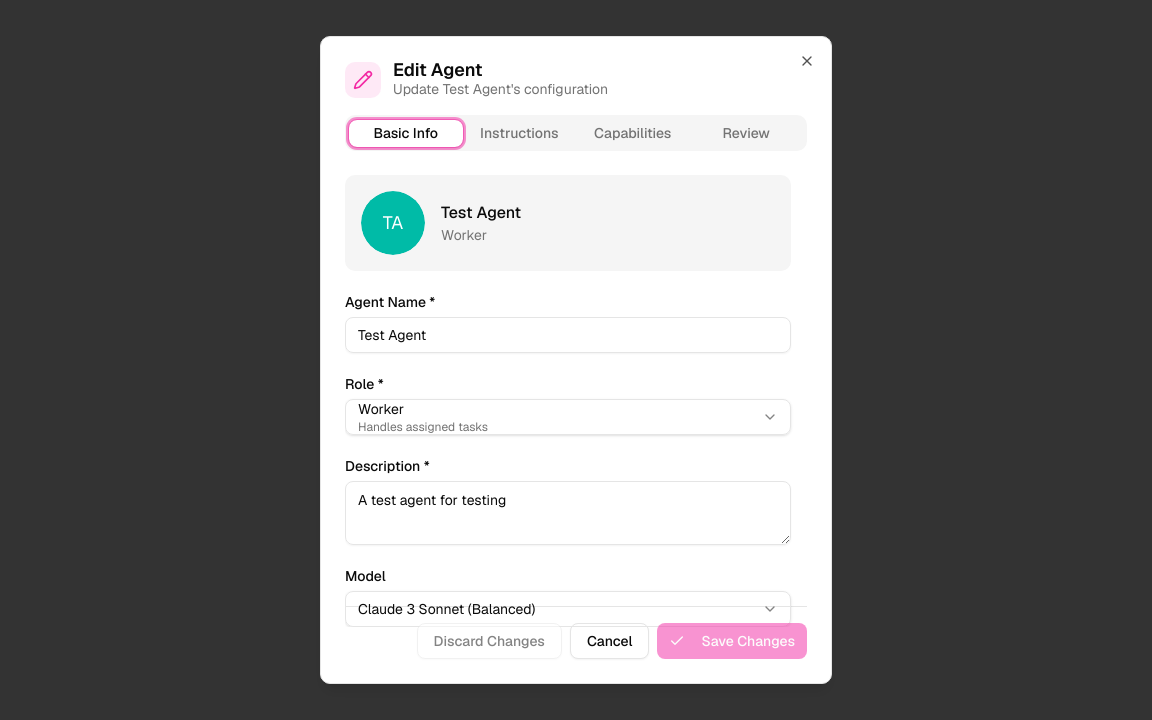
Scenario: EditAgentModal › allows changing role
Click the dropdown labelled "Worker Handles assigned tasks" at [381, 409], box [345,399,791,435]
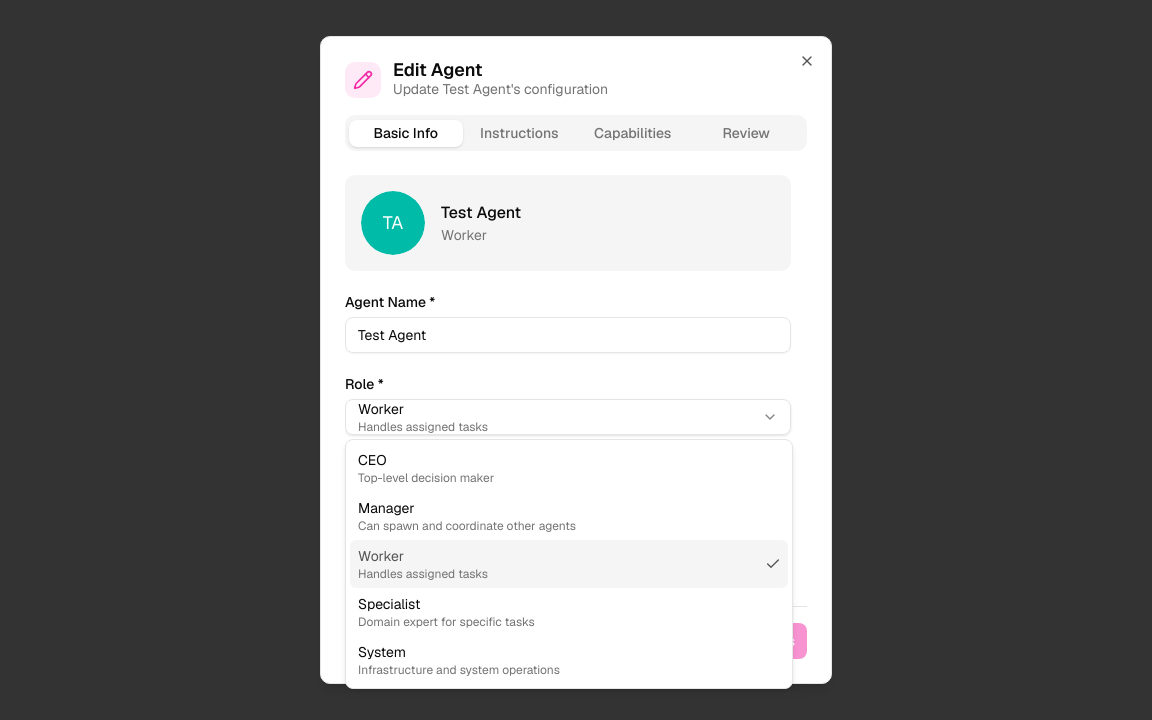
// Select manager role
Click the text "Manager" at [386, 508], box [358,498,415,518]
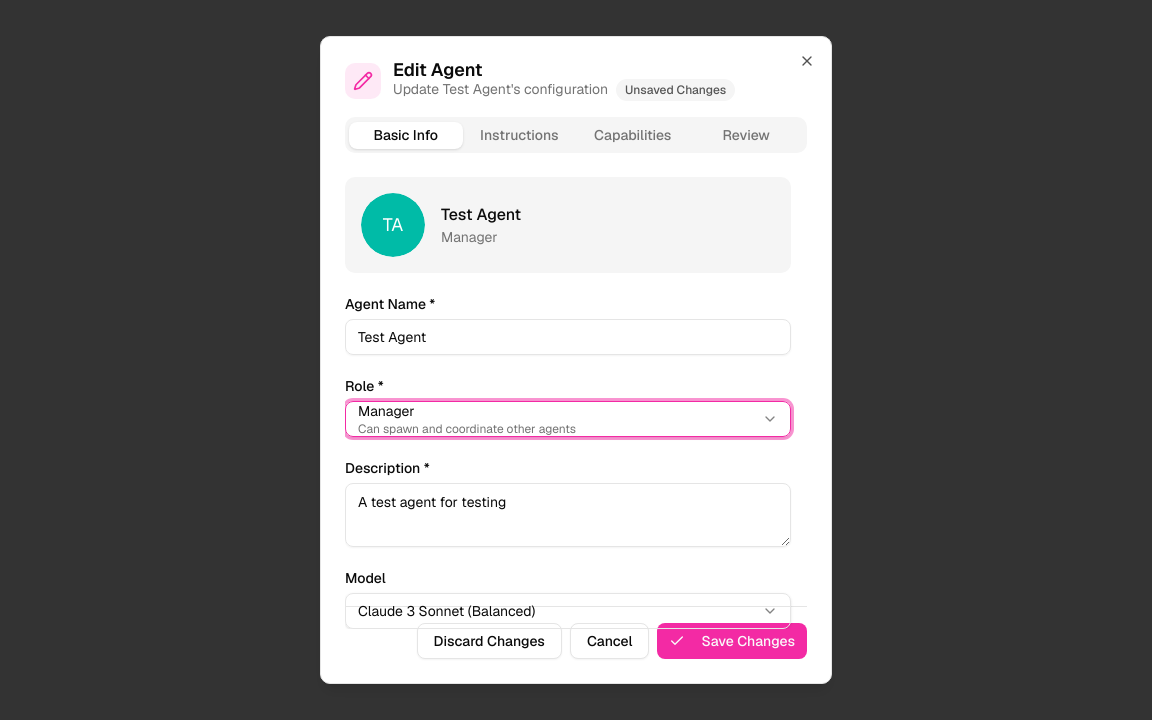
Expected: the dropdown labelled "Manager Can spawn and coordinate other agents" is shown, [345,401,791,437]
